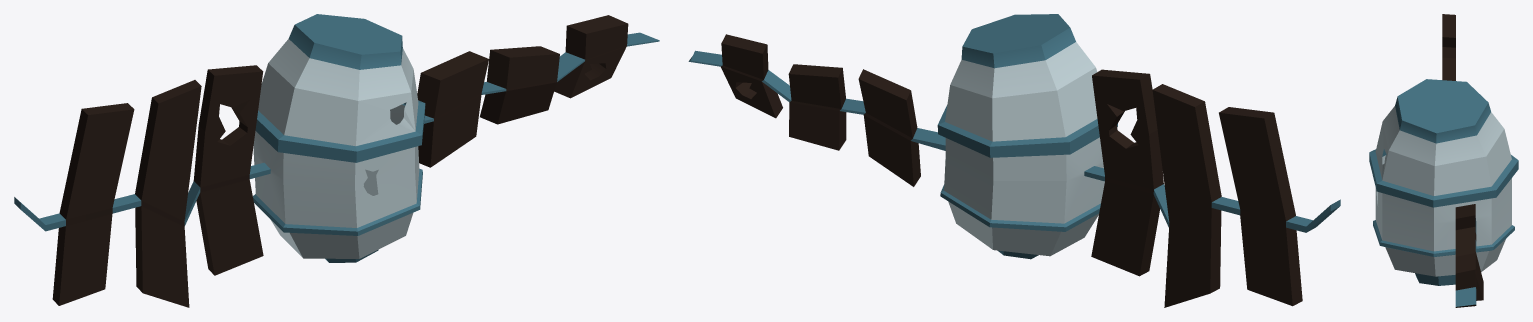
File: MediumSpaceTrash_kind1_optimized.fbx
The picture shows the model from 3 angles, left to right: view 1: azimuth 30°, elevation 25°; view 2: azimuth 150°, elevation 25°; view 3: azimuth 270°, elevation 25°; orthographic projection. The views are drawn at different scales.
Parts seen in each view (by area): view 1: pCylinder5; view 2: pCylinder5; view 3: pCylinder5.
Part boxes in pixels (x1,y1,x2,y2): pCylinder5: [14, 14, 659, 307]; pCylinder5: [688, 14, 1340, 307]; pCylinder5: [1369, 14, 1518, 307].
Size of the model in its own units: 872 by 315 by 212.
